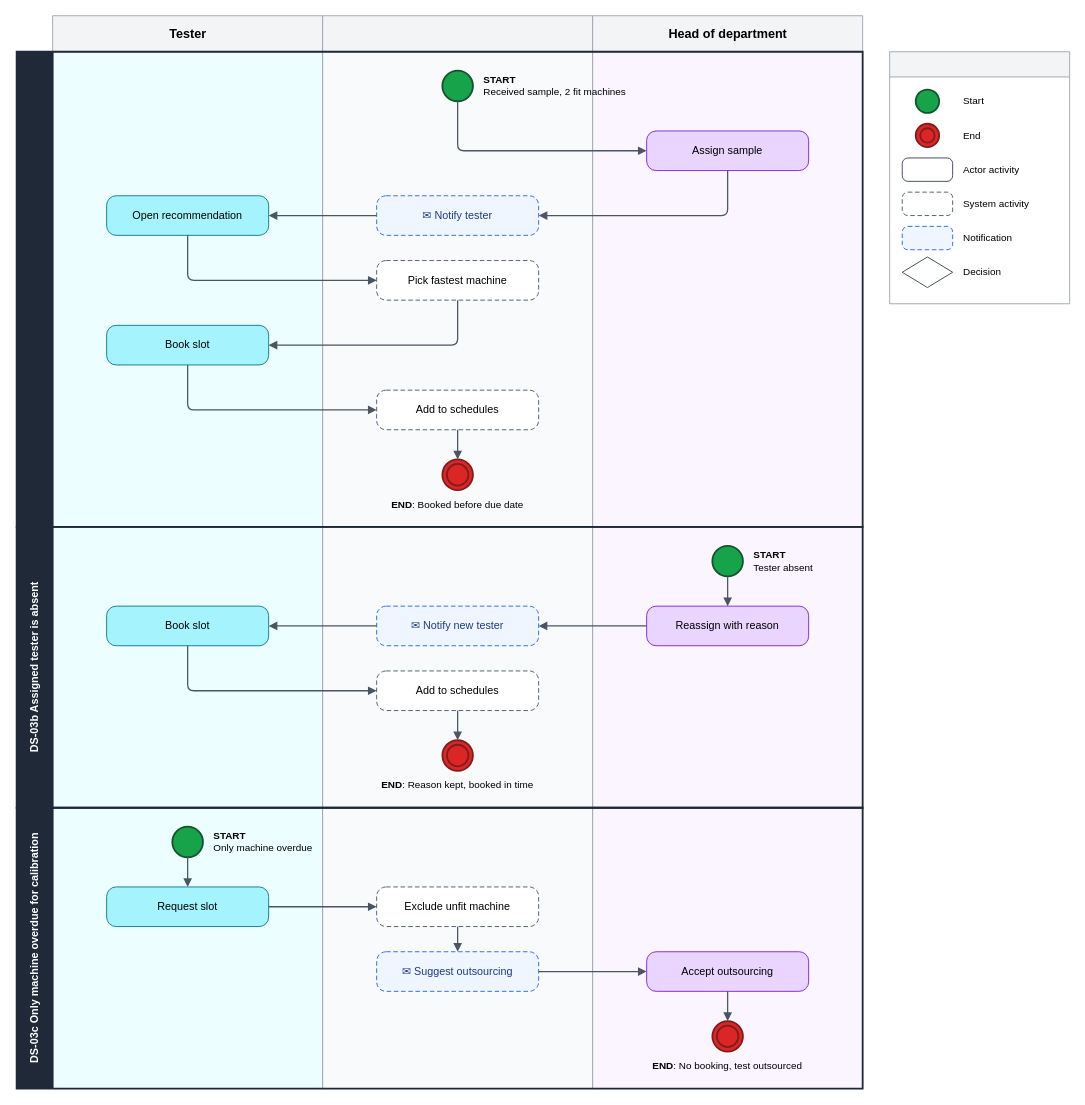
Image size: 1085x1105. Some labels were removed from this diagram. Here are the shapes that lost their labels. From the top down, the box of each, then its label:
(889, 51, 1070, 304): Legend
(15, 50, 863, 527): DS-03a Main: book the machine that finishes first
(322, 15, 593, 1089): System
